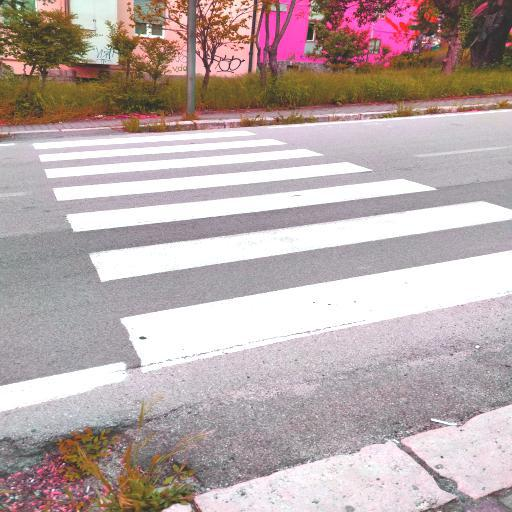crosswalk: (45, 158, 447, 238)
